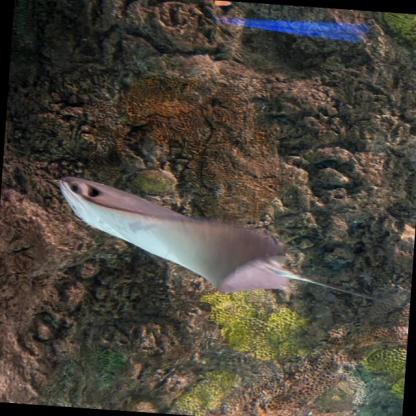stingray: (49, 173, 298, 299)
